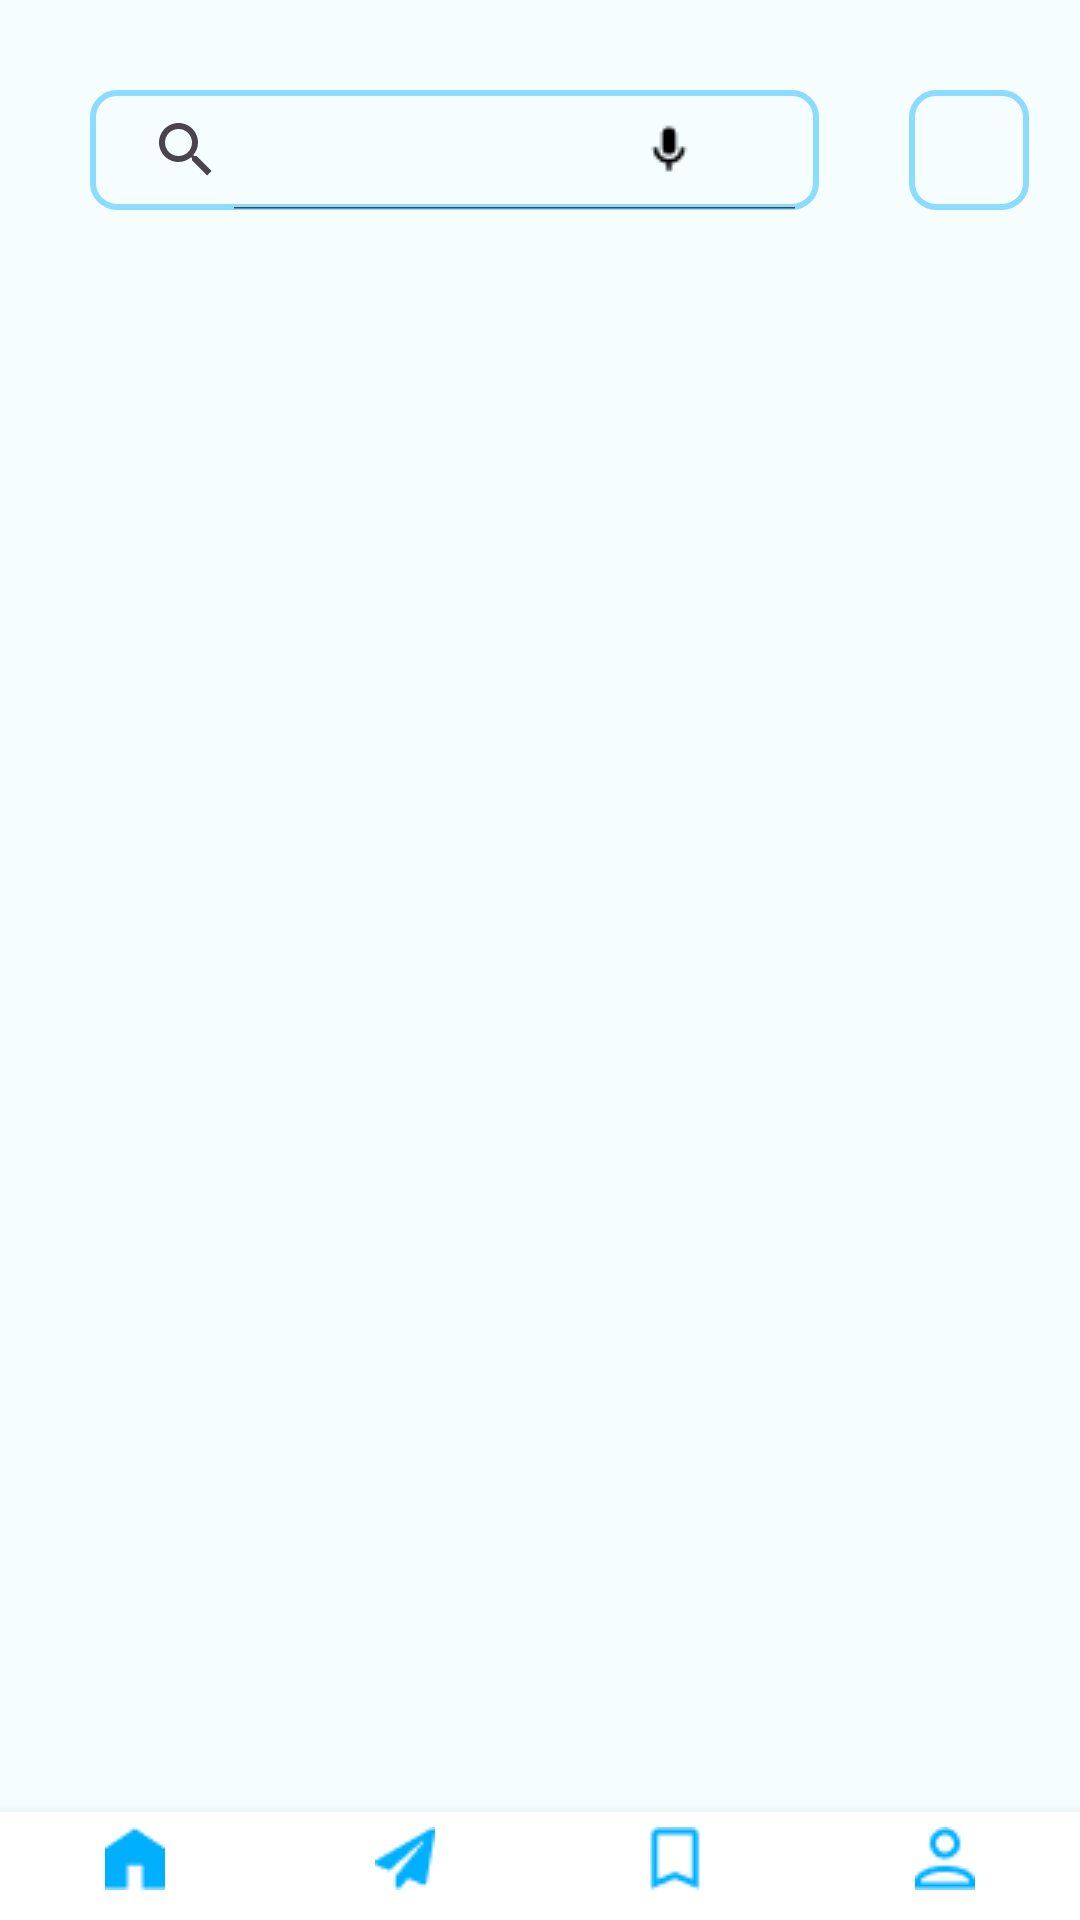

Screen size 1080px x 1920px. Icon name, then its box in pixels as region(x1, y1, x2, y2):
home: region(105, 1827, 165, 1890)
message: region(375, 1827, 435, 1890)
profil: region(915, 1827, 975, 1890)
save: region(650, 1827, 700, 1890)
